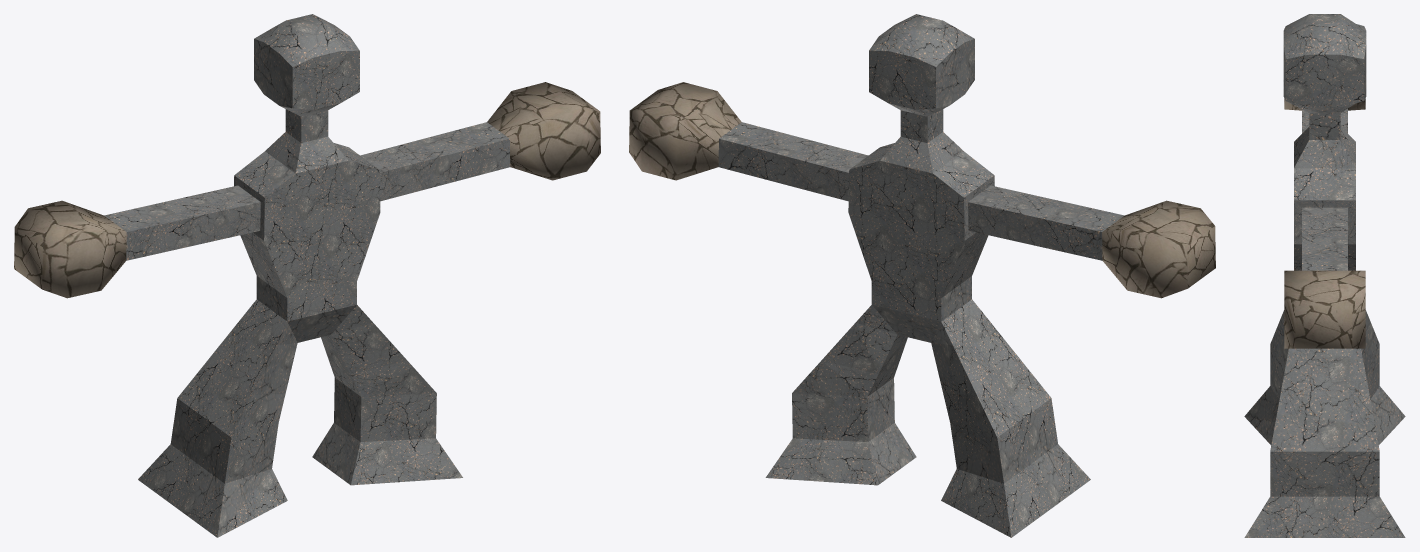
File: monstr.FBX
The picture shows the model from 3 angles, left to right: view 1: azimuth 30°, elevation 25°; view 2: azimuth 150°, elevation 25°; view 3: azimuth 270°, elevation 25°; orthographic projection.
Visible parts, largest first — view 1: Object001; view 2: Object001; view 3: Object001.
Boxes of the visible parts, x1,y1,x2,y2 form: Object001: (14,14,600,537); Object001: (629,14,1215,537); Object001: (1244,14,1405,537).
Bounding box in the file's own units: 81.43 × 63.25 × 20.11.
2 materials, 2 textured.
